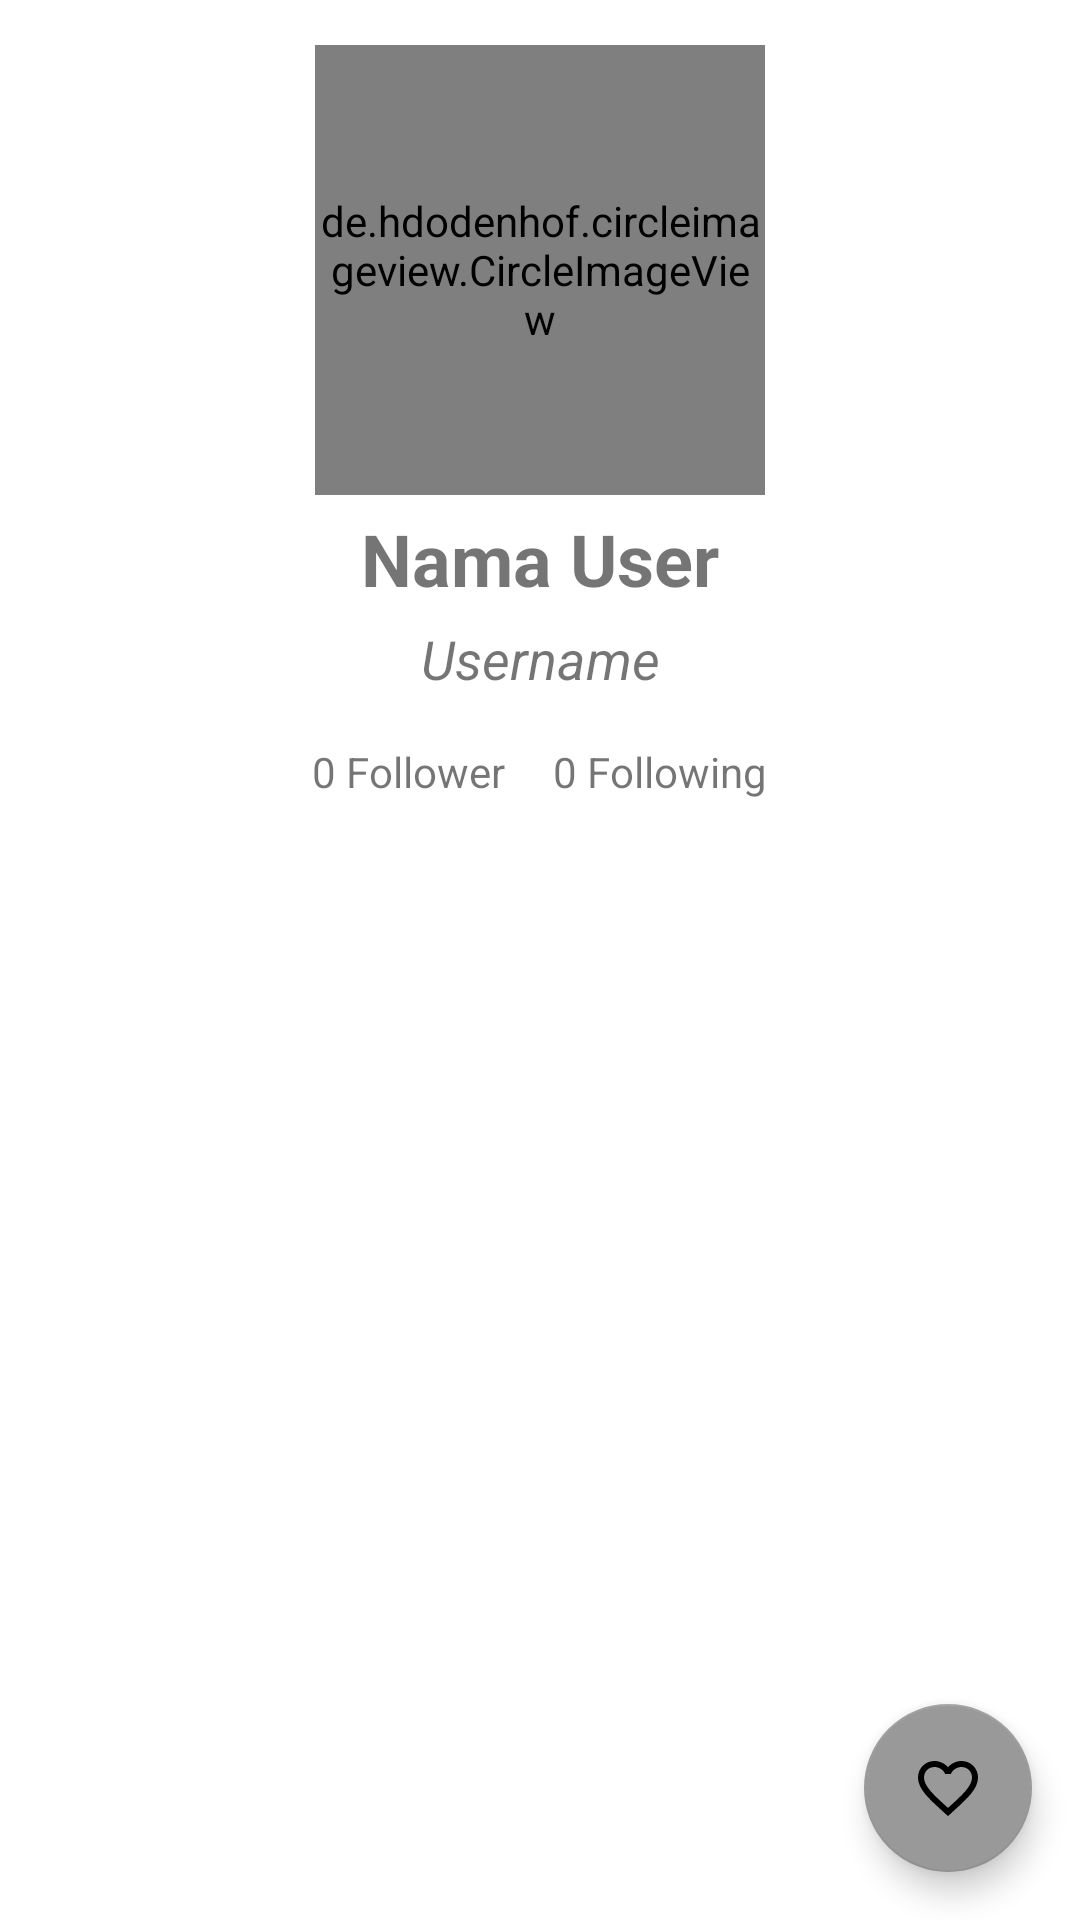

Point at icon controls on the screen. Image size 1080 × 1920, points as [x,y].
favorite border: [948,1788]
